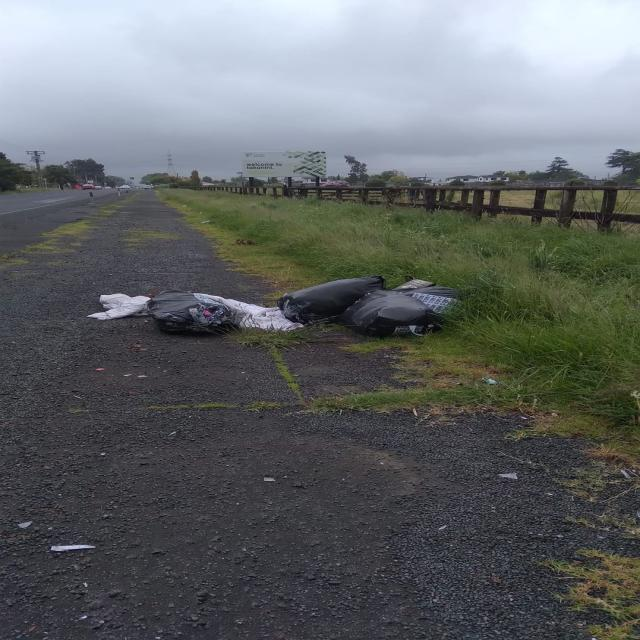dumping: (52, 245, 492, 378)
